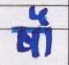ai_matra: (29, 5, 51, 26)
